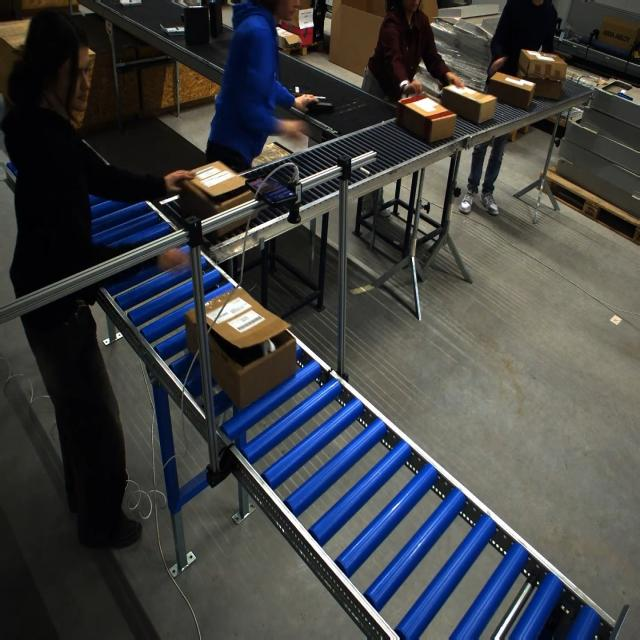box: (185, 289, 293, 408), (178, 161, 254, 222), (392, 95, 450, 144), (516, 49, 568, 100), (441, 83, 495, 124), (486, 71, 535, 111)
product: (160, 24, 185, 35), (287, 85, 310, 96), (120, 0, 142, 6)
